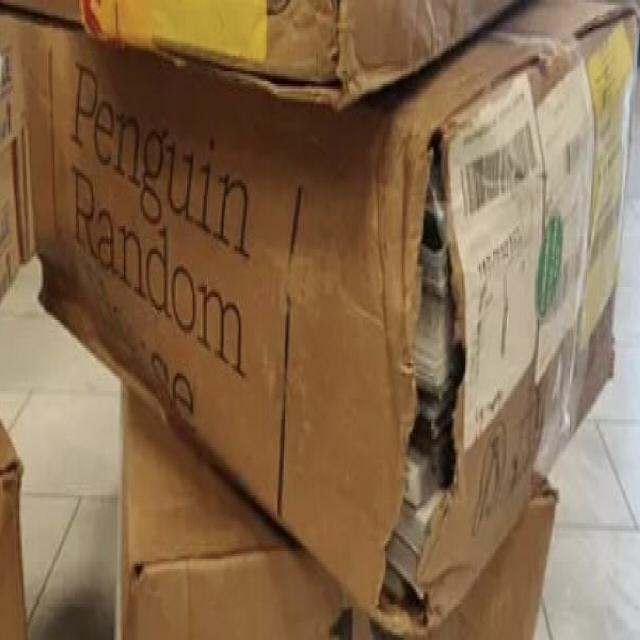hole: (384, 142, 466, 632)
